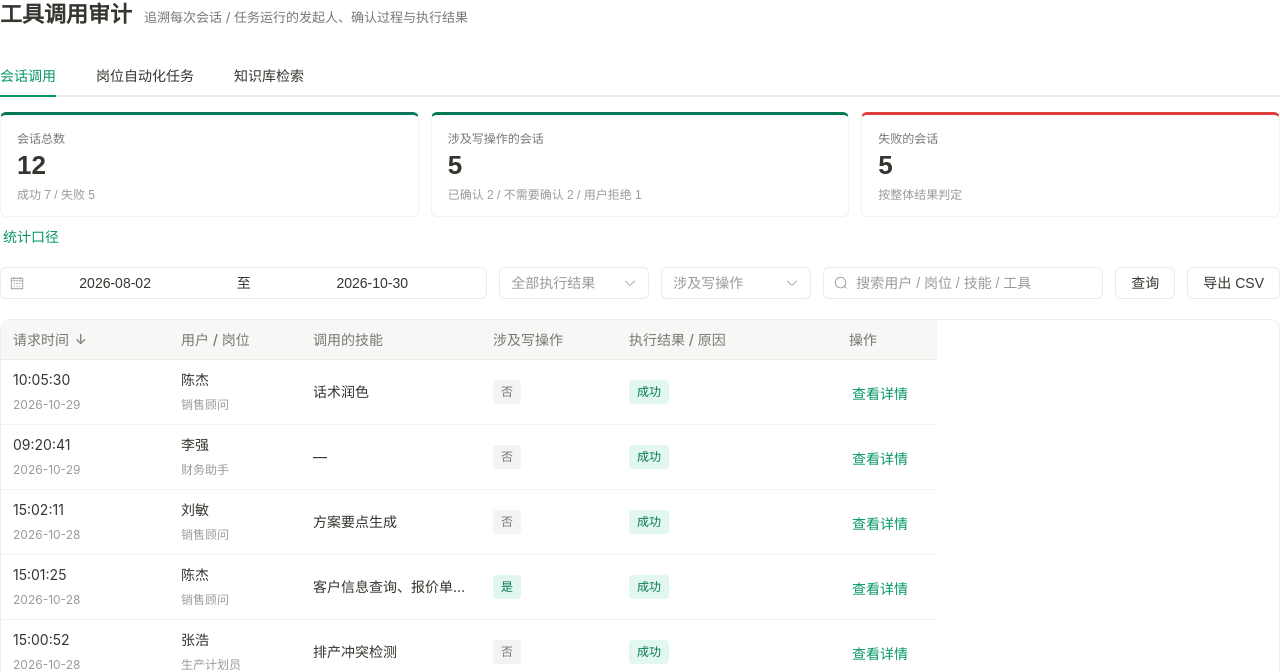
Test: 详情抽屉（§5.1 / §5.2 / §5.3） › 先失败后重试成功的执行（排产冲突检测）：整体结果说明文案走"成功"分支，详情里仍能看到失败那一项
The width and height of the screenshot is (1280, 672).
In the field with placeholder "搜索用户 / 岗位 / 技能 / 工具": (974, 283) left=856, top=268, right=1092, bottom=298, type "排产冲突检测"
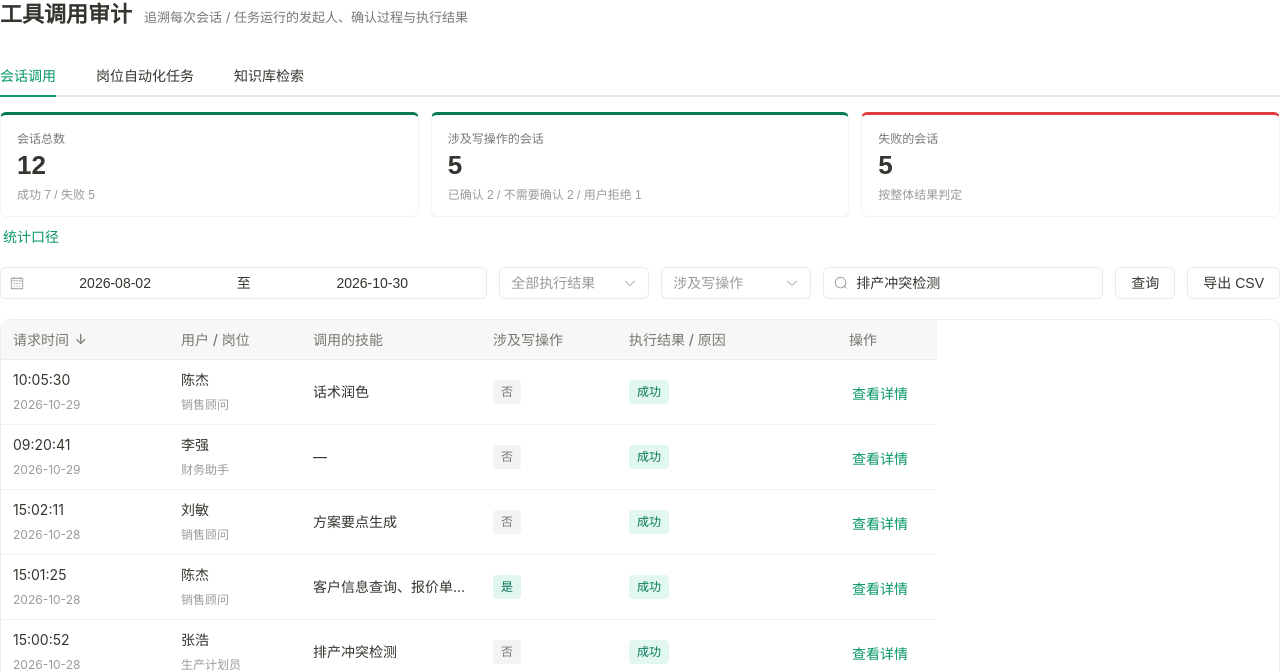
Press Enter in the field with placeholder "搜索用户 / 岗位 / 技能 / 工具", box left=856, top=268, right=1092, bottom=298
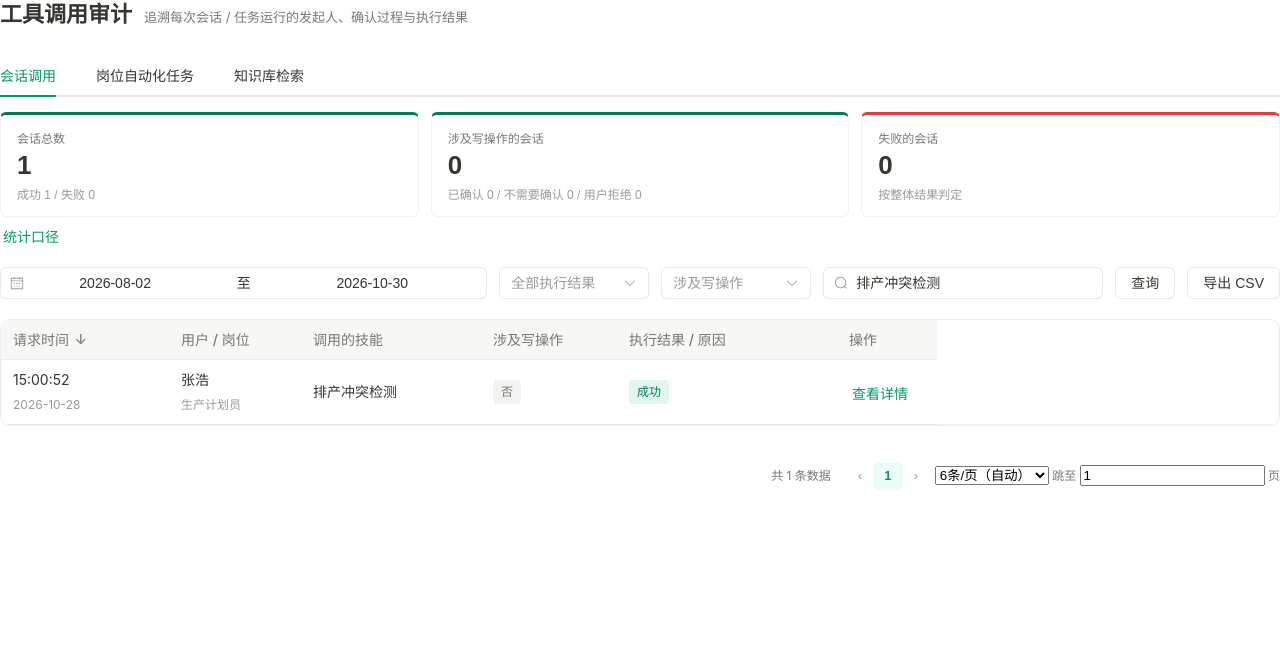
Click the button "查看详情": (880, 394) left=849, top=384, right=911, bottom=404
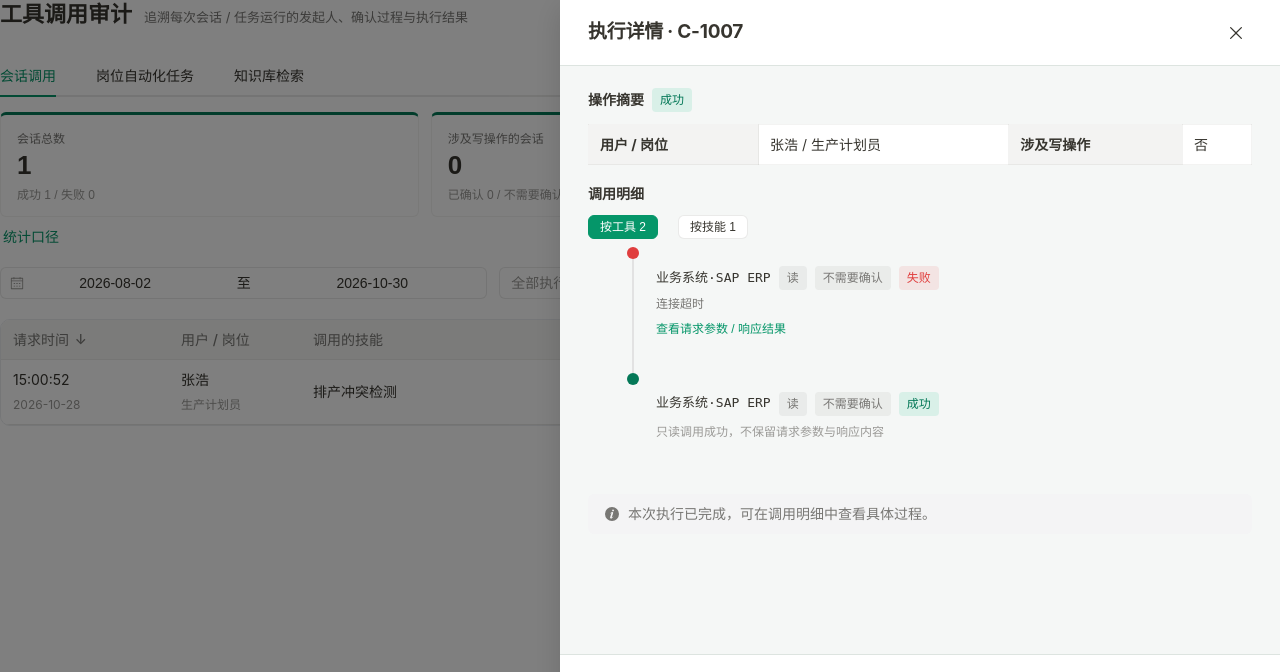
Check: the element that starts with "操作摘要" shows "本次执行已完成", box left=628, top=505, right=936, bottom=522
Check: the element with class "call-item" shows "失败", box left=907, top=270, right=931, bottom=285
Check: the element with class "call-item" shows "连接超时", box left=656, top=296, right=704, bottom=311
